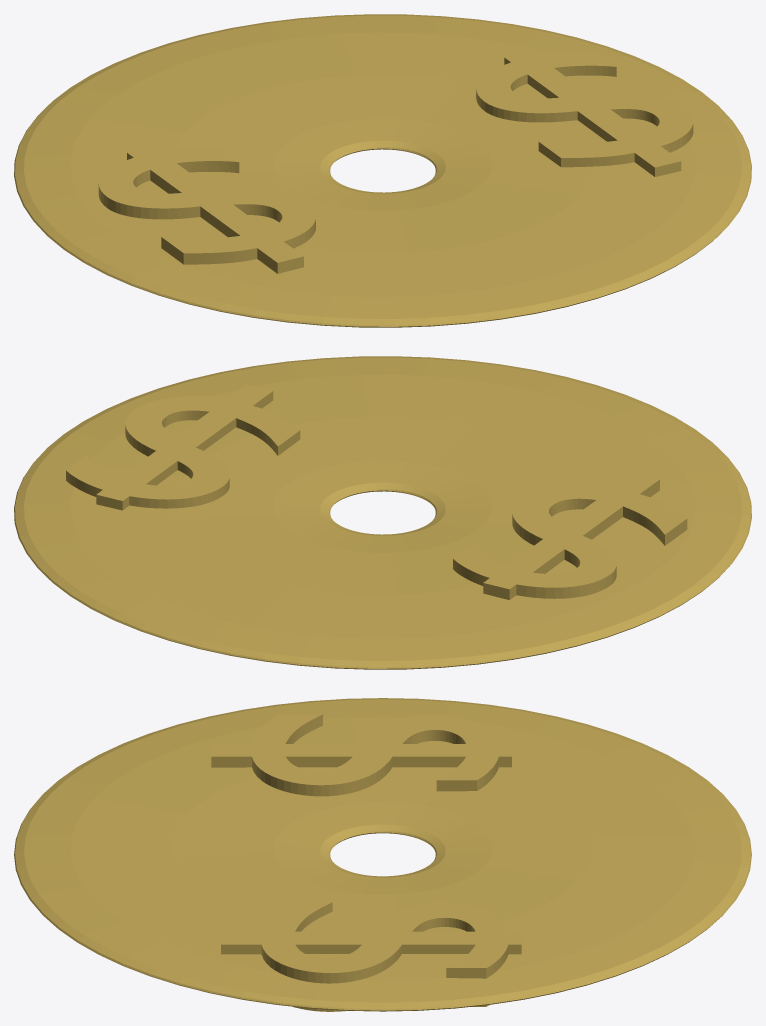
The model's file is coin.fbx.
The picture shows the model from 3 angles, top to bottom: view 1: azimuth 30°, elevation 25°; view 2: azimuth 150°, elevation 25°; view 3: azimuth 270°, elevation 25°; orthographic projection.
Visible parts, largest first — view 1: Coin, Text.001, Text; view 2: Coin, Text.001, Text; view 3: Coin, Text.001, Text.
Boxes of the visible parts, <box> form: Coin: <box>14,14,751,327</box>; Text.001: <box>98,146,315,273</box>; Text: <box>476,51,693,176</box>; Coin: <box>14,356,751,669</box>; Text.001: <box>453,473,687,599</box>; Text: <box>66,384,300,510</box>; Coin: <box>14,698,751,1011</box>; Text.001: <box>211,714,511,796</box>; Text: <box>221,902,521,1011</box>.
Size of the model in its own units: 199 by 11.96 by 199.
